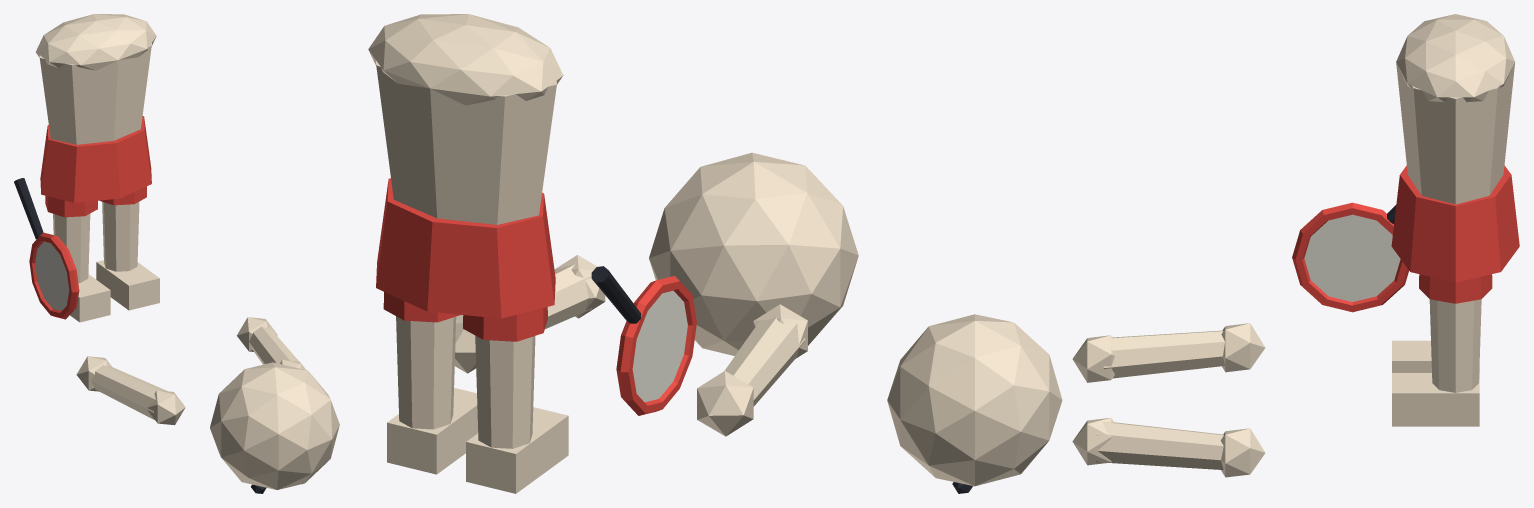
The model's file is athlete_tennis.fbx.
3 renders of one model, left to right at view 1: azimuth 30°, elevation 25°; view 2: azimuth 150°, elevation 25°; view 3: azimuth 270°, elevation 25°, orthographic. The views are drawn at different scales.
Parts seen in each view (by area): view 1: Torso, Head, LegL, Item, LegR, ArmR, ArmL; view 2: Torso, Head, LegR, LegL, Item, ArmR, ArmL; view 3: Torso, Head, LegL, Item, ArmL, ArmR, LegR.
Boxes of the visible parts, x1=… form: Torso: x1=36, y1=14, x2=156, y2=202; Head: x1=210, y1=362, x2=339, y2=493; LegL: x1=96, y1=186, x2=159, y2=310; Item: x1=14, y1=178, x2=79, y2=319; LegR: x1=45, y1=195, x2=110, y2=322; ArmR: x1=76, y1=356, x2=185, y2=425; ArmL: x1=236, y1=317, x2=305, y2=369; Torso: x1=368, y1=14, x2=563, y2=318; Head: x1=649, y1=152, x2=858, y2=355; LegR: x1=463, y1=307, x2=568, y2=493; LegL: x1=383, y1=292, x2=478, y2=474; Item: x1=591, y1=266, x2=696, y2=415; ArmR: x1=697, y1=304, x2=807, y2=436; ArmL: x1=454, y1=255, x2=605, y2=373; Torso: x1=1391, y1=14, x2=1519, y2=282; Head: x1=887, y1=314, x2=1062, y2=493; LegL: x1=1392, y1=274, x2=1492, y2=426; Item: x1=1292, y1=202, x2=1408, y2=312; ArmL: x1=1072, y1=417, x2=1265, y2=477; ArmR: x1=1072, y1=323, x2=1265, y2=382; LegR: x1=1392, y1=340, x2=1479, y2=372.
Bounding box in the file's own units: 1.06 × 1.75 × 2.24.
